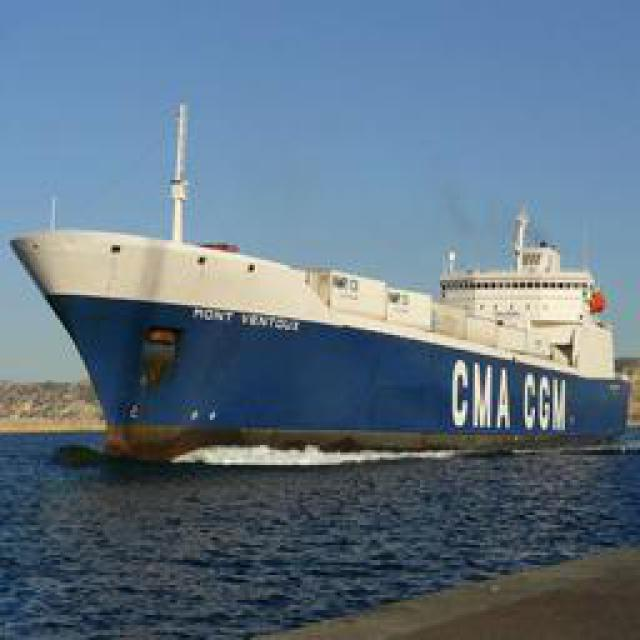Ship: (19, 212, 629, 460)
